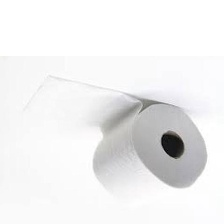tissue: (16, 72, 211, 203)
